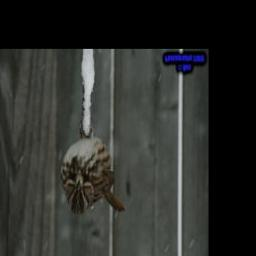Sparrow: (59, 124, 126, 216)
